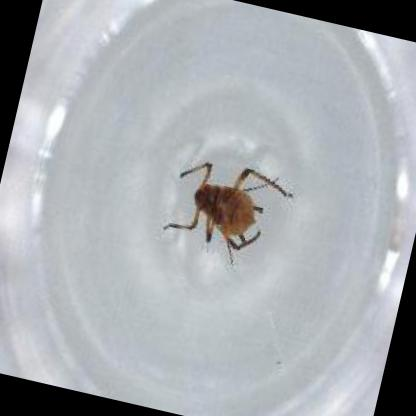uroleucon compositae: (192, 162, 291, 248)
